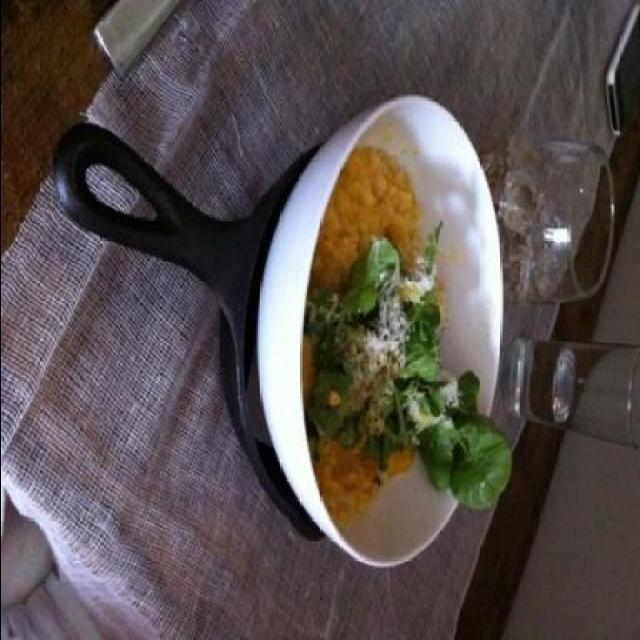Risotto: (288, 141, 452, 499)
